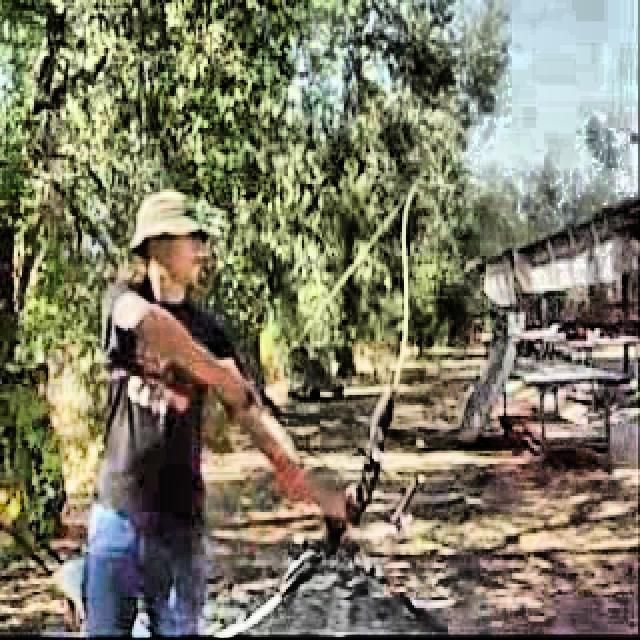I: (74, 196, 375, 640)
